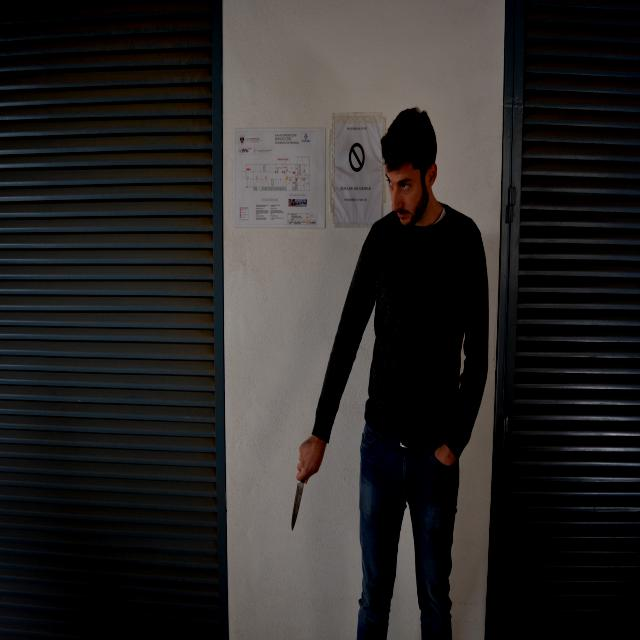knife: (288, 456, 312, 534)
